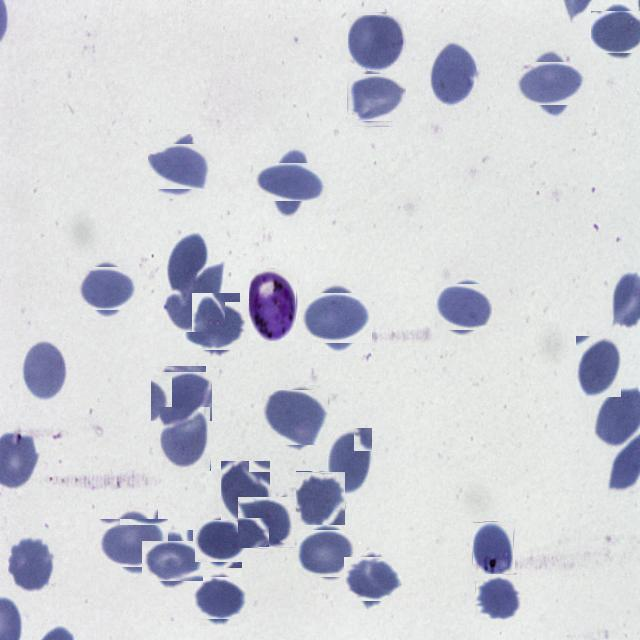difficult: (249, 268, 296, 341)
red blood cell: (165, 262, 225, 332), (306, 288, 368, 348), (266, 388, 326, 448), (104, 514, 164, 573), (348, 11, 406, 71), (159, 406, 211, 471), (522, 54, 580, 112), (262, 153, 320, 211), (221, 460, 271, 526), (429, 40, 477, 108), (187, 298, 244, 354), (153, 368, 209, 424), (153, 139, 208, 194), (328, 427, 373, 494), (22, 338, 68, 403), (349, 70, 403, 124), (240, 496, 294, 550), (576, 336, 622, 398), (166, 231, 210, 295), (301, 527, 354, 580), (439, 280, 491, 334), (8, 534, 55, 592), (296, 472, 346, 526), (347, 554, 399, 605), (147, 535, 198, 586), (82, 264, 134, 314), (196, 574, 244, 622), (198, 518, 245, 566), (472, 521, 514, 574), (476, 574, 523, 621), (595, 7, 640, 56)
